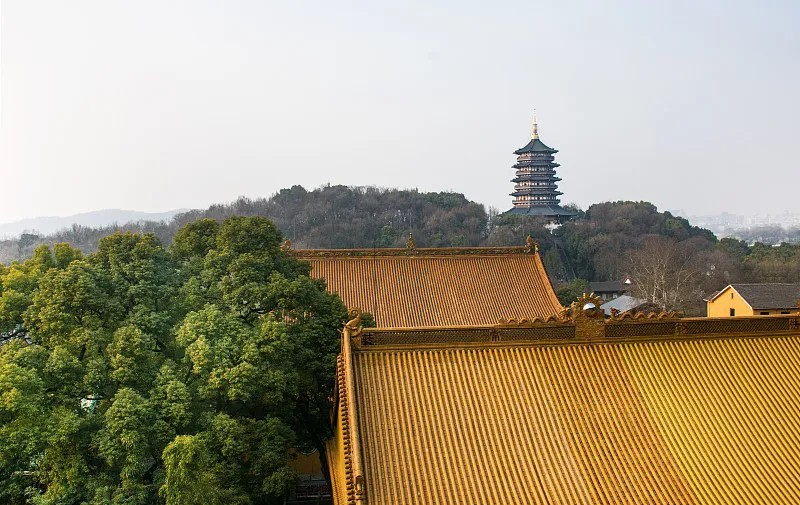Leifeng: (493, 110, 584, 231)
